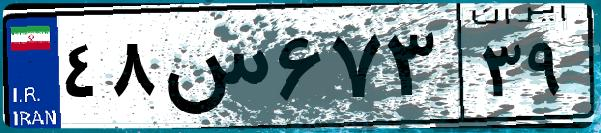3: (385, 28, 445, 110), (475, 38, 525, 113)
4: (57, 26, 110, 100)
6: (270, 28, 330, 110)
7: (330, 28, 385, 110)
8: (110, 28, 158, 98)
9: (525, 38, 570, 115)
س: (158, 20, 270, 120)
